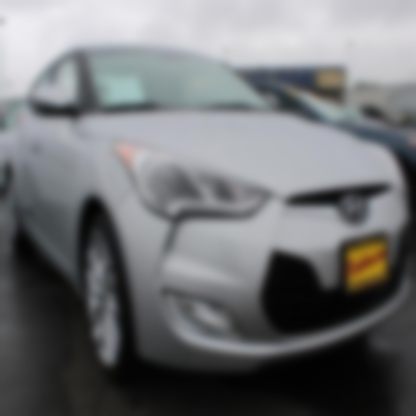Vehicle: (1, 41, 415, 380)
